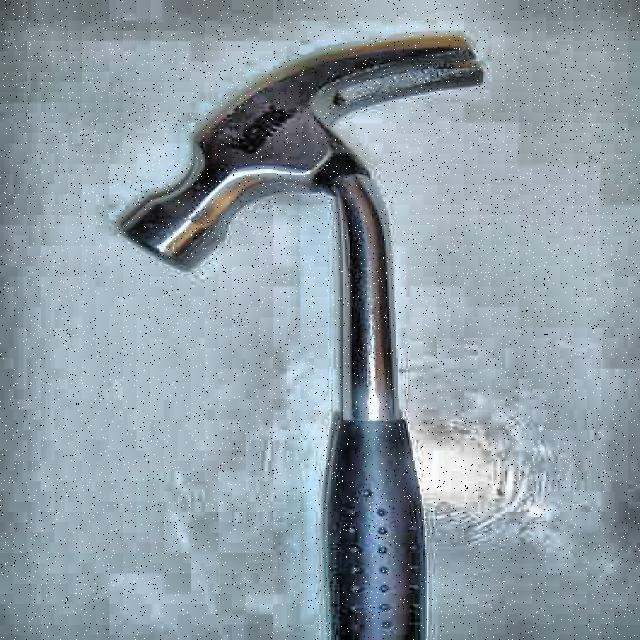hammer: (118, 31, 486, 640)
